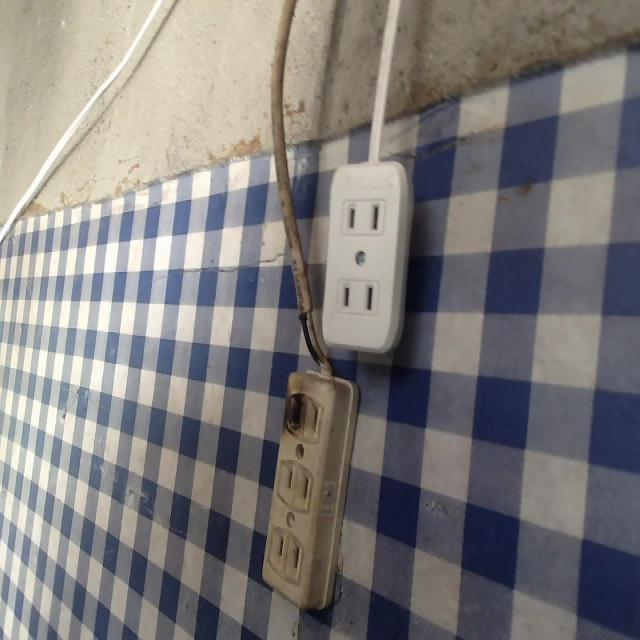-: (276, 382, 313, 438)
